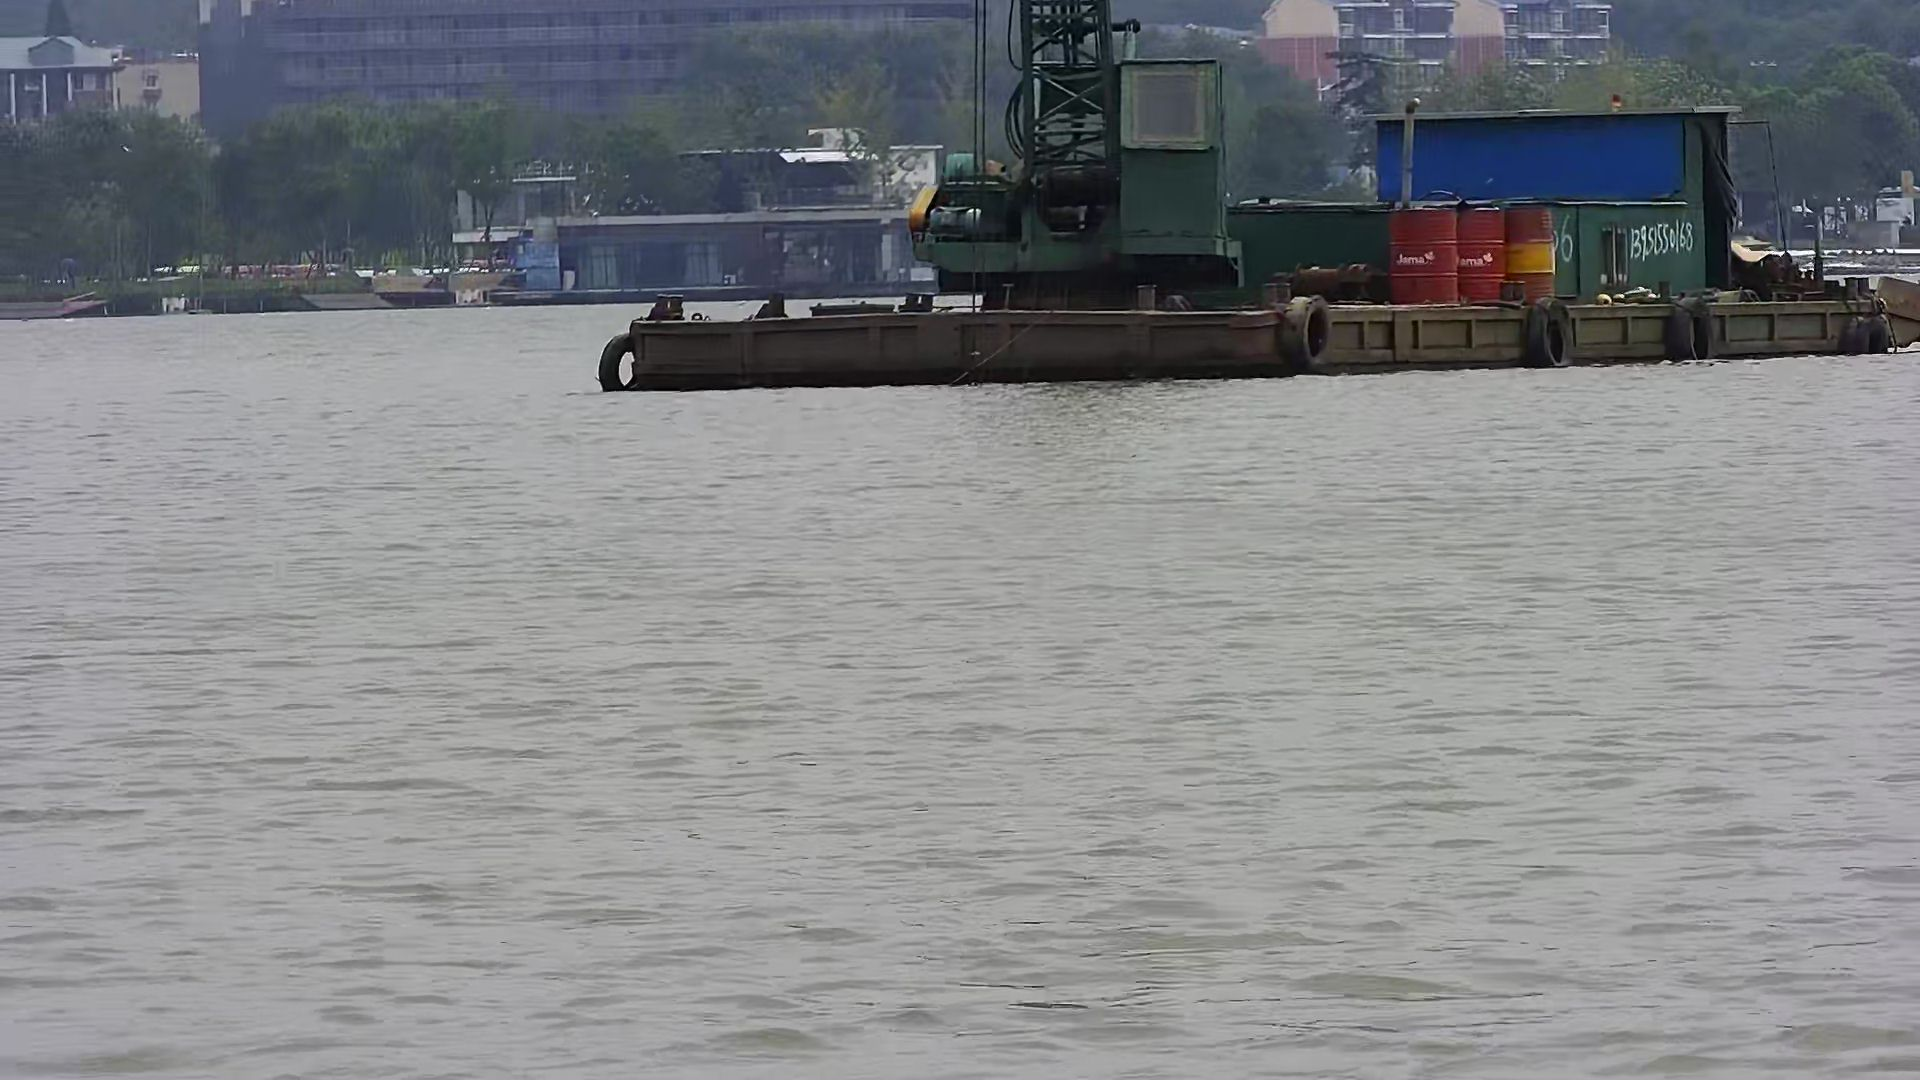ship: (603, 11, 1903, 392)
